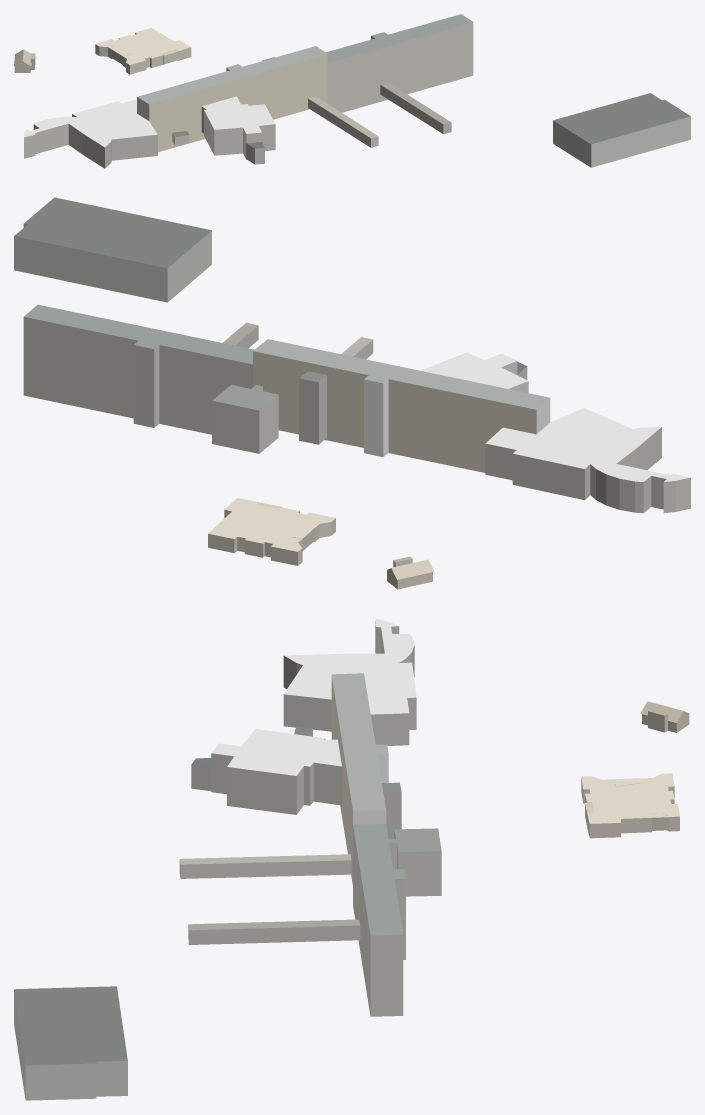
3 views of the same model, one above another, from view 1: azimuth 30°, elevation 25°; view 2: azimuth 150°, elevation 25°; view 3: azimuth 270°, elevation 25° (orthographic). The views are drawn at different scales.
Parts seen in each view (by area): view 1: tuile; view 2: tuile; view 3: tuile.
Part boxes in pixels (left/top/right/bottom): tuile: left=14, top=14, right=690, bottom=168; tuile: left=14, top=197, right=690, bottom=589; tuile: left=14, top=618, right=689, bottom=1100.
Bounding box in the file's own units: 280 × 33.18 × 198.
